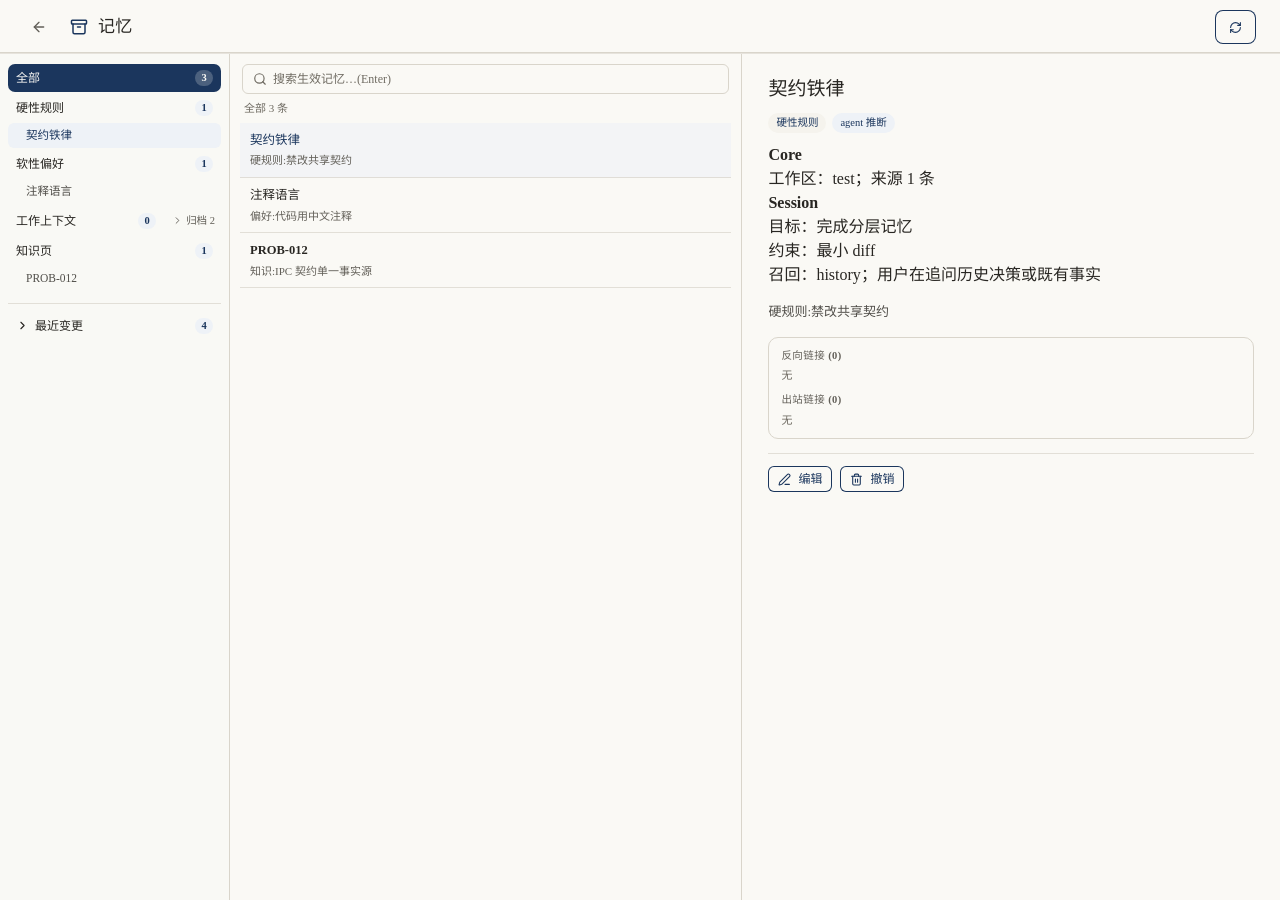
Test: MemoryPage(三栏工作台 + 操作) › 搜索:提交后走 search 通道,中栏展示结果区
The image size is (1280, 900).
Step 1. Type "中文子串" into the search field with test id "memory-search-input" → point(496, 79), box 273,70 -> 718,88
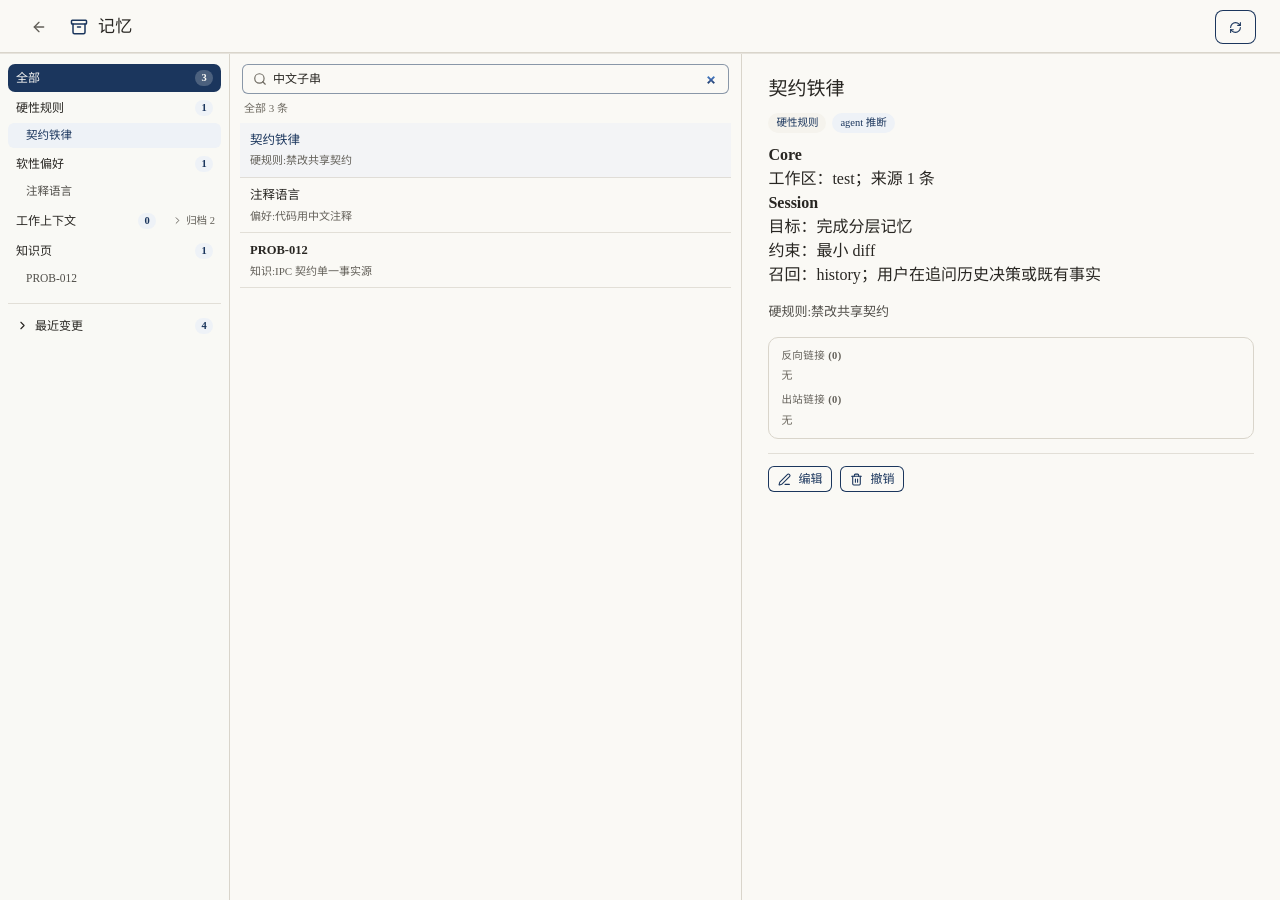
Step 2. Press Enter
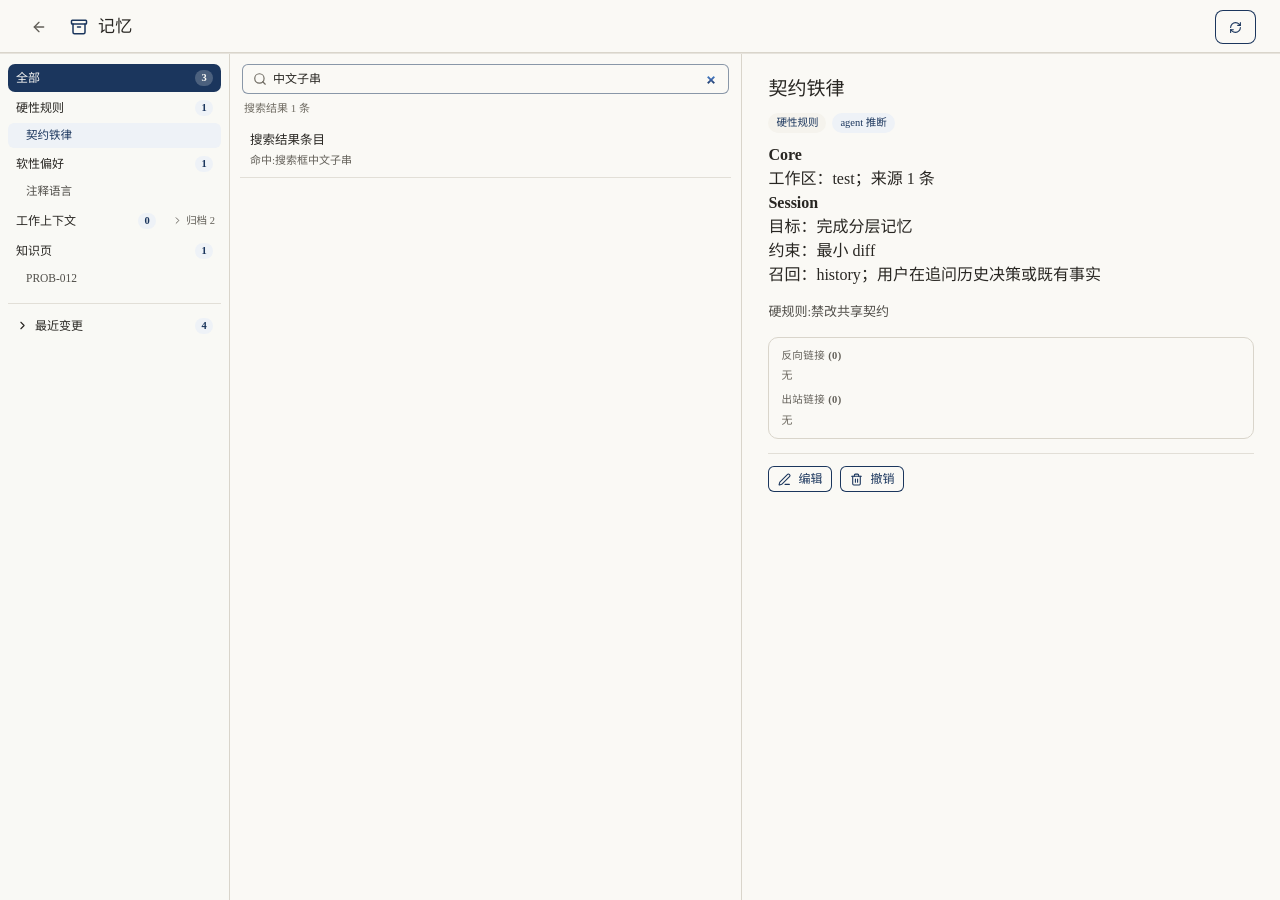
Expected: the text "搜索结果条目" is shown, 250,132 -> 325,146
